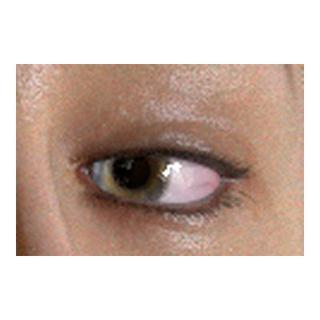pupil: (112, 152, 149, 189)
